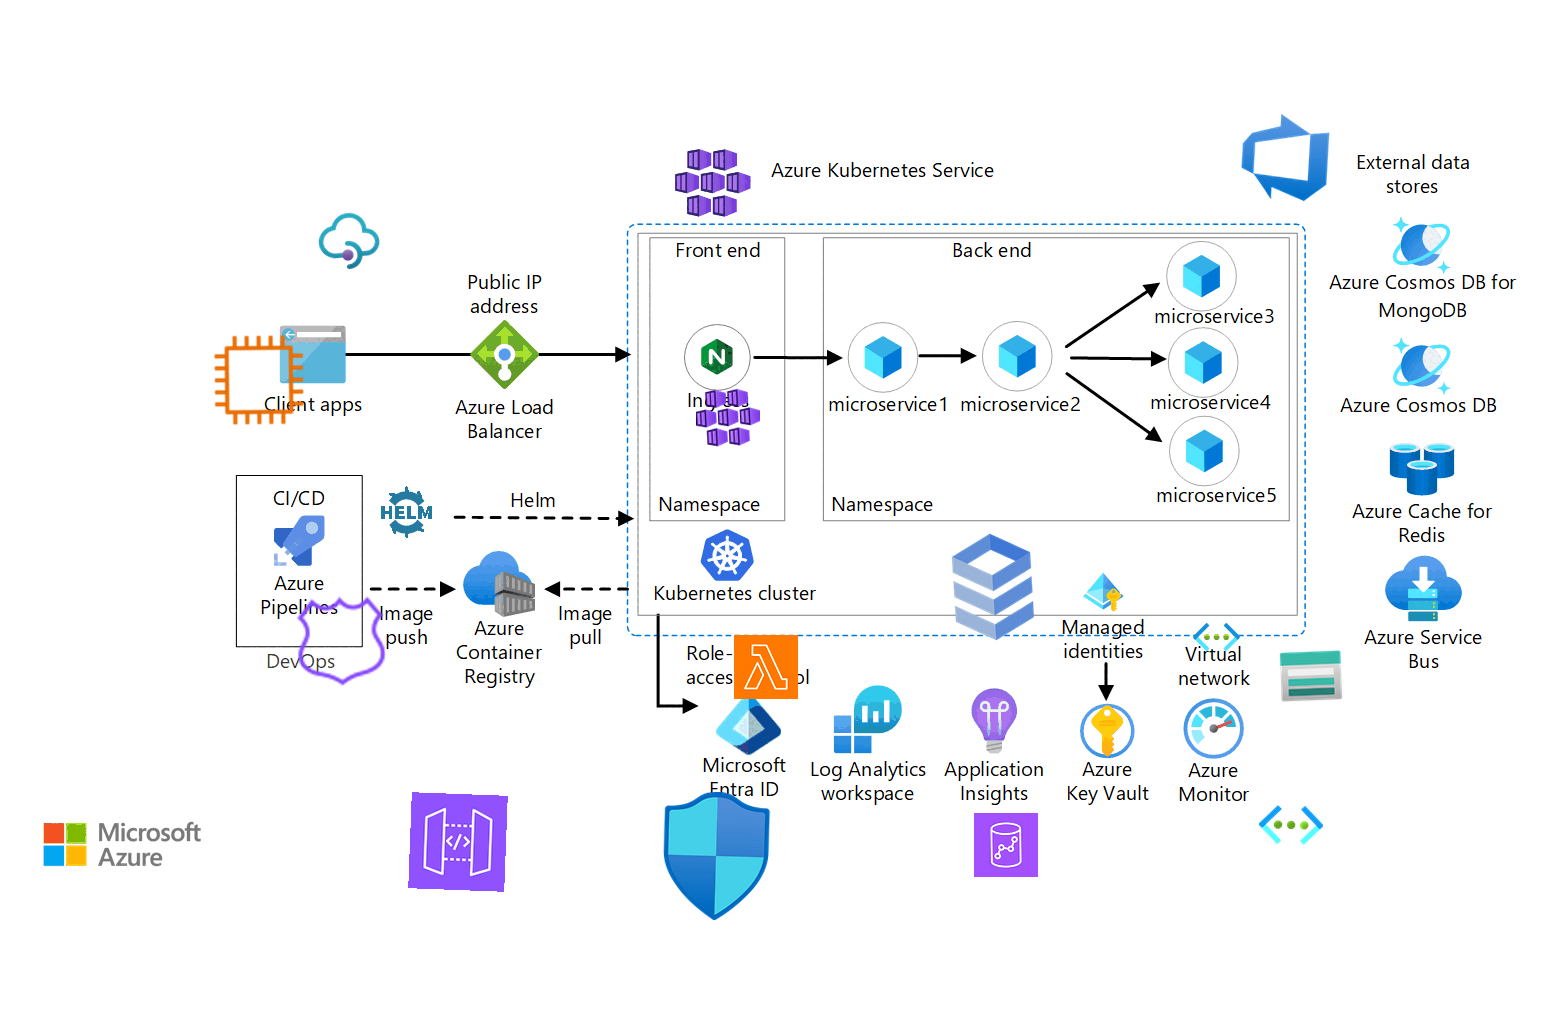aws_amazon_api_gateway: (408, 792, 508, 892)
aws_amazon_redshift: (973, 812, 1039, 878)
aws_ec2_instance: (210, 331, 308, 429)
aws_lambda: (733, 634, 799, 700)
aws_route_53_hosted_zone: (292, 591, 392, 691)
azure_api_management_services: (314, 206, 384, 276)
azure_devops: (1234, 105, 1336, 207)
azure_kubernetes_services: (694, 383, 762, 450)
azure_network_security_groups: (650, 790, 783, 922)
azure_storage_accounts: (1277, 642, 1345, 710)
azure_virtual_networks: (1258, 792, 1324, 859)
gcp_cloud_sql: (925, 519, 1061, 654)
